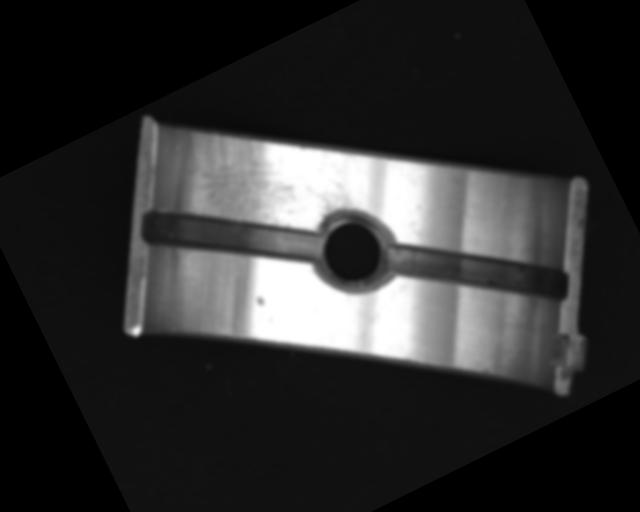bruise: (253, 293, 266, 308)
gap: (378, 182, 576, 364), (135, 149, 325, 321)
hole: (297, 194, 408, 305)
scratch: (173, 79, 366, 274)
